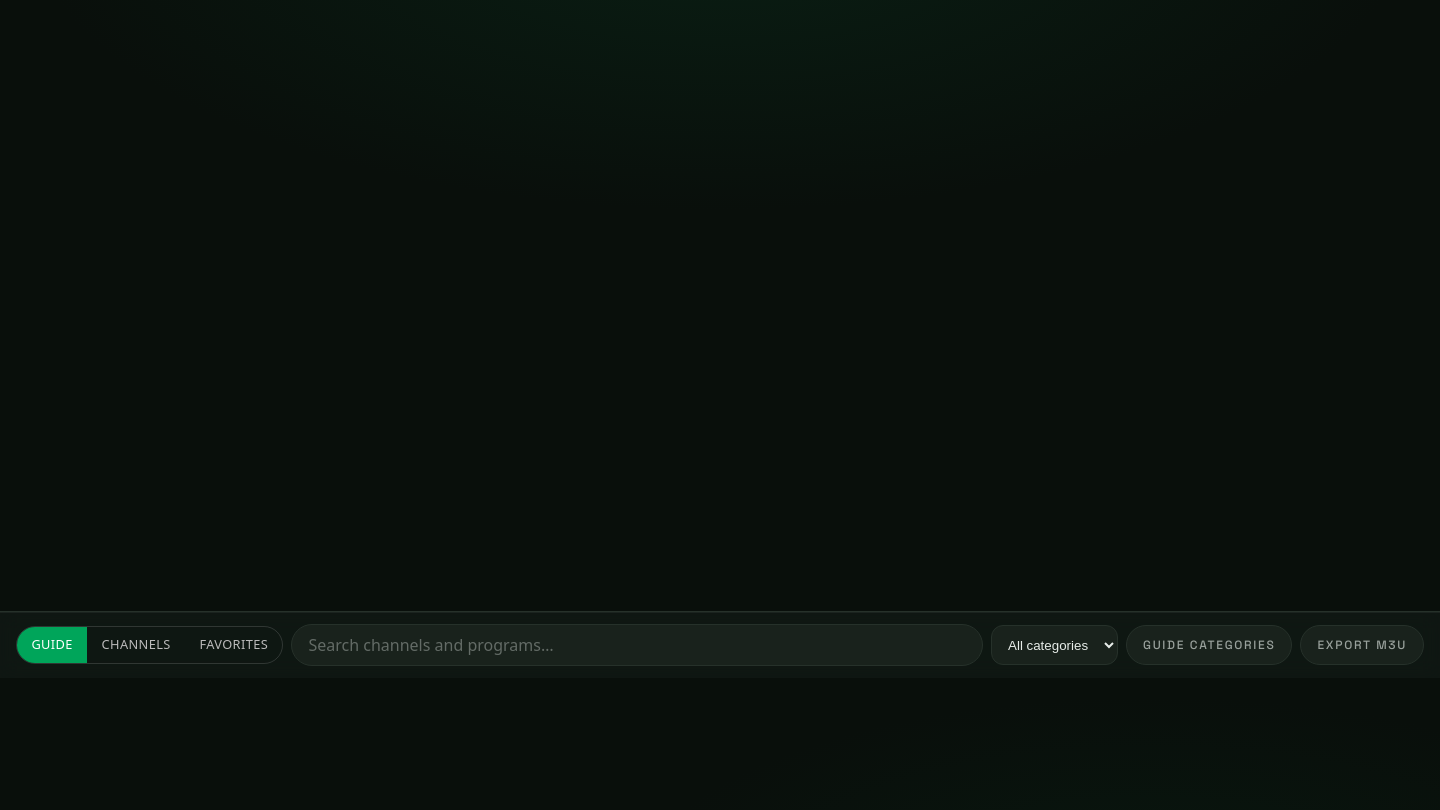
Test: LiveTab — failed channel grant surfaces a visible error (never a silent void) › renders a source_unavailable alert with the available alternatives
Click the button "Channels" at coordinates (136, 645), box [87,627,185,663]
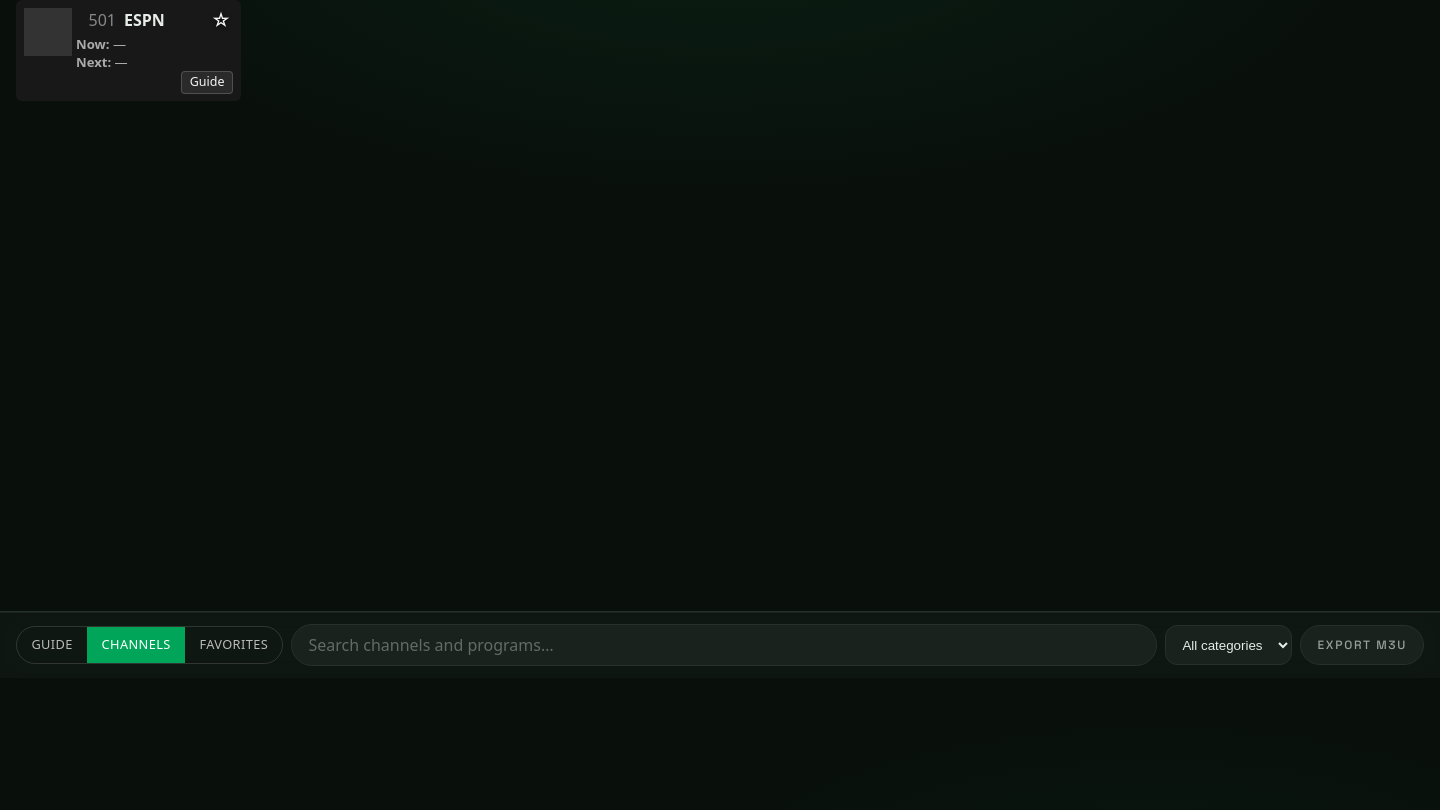
expect the button "☆ 501 ESPN Now: — Next: — Guide" is shown: met
Click the button "☆ 501 ESPN Now: — Next: — Guide" at coordinates (128, 50), box [16,0,241,101]
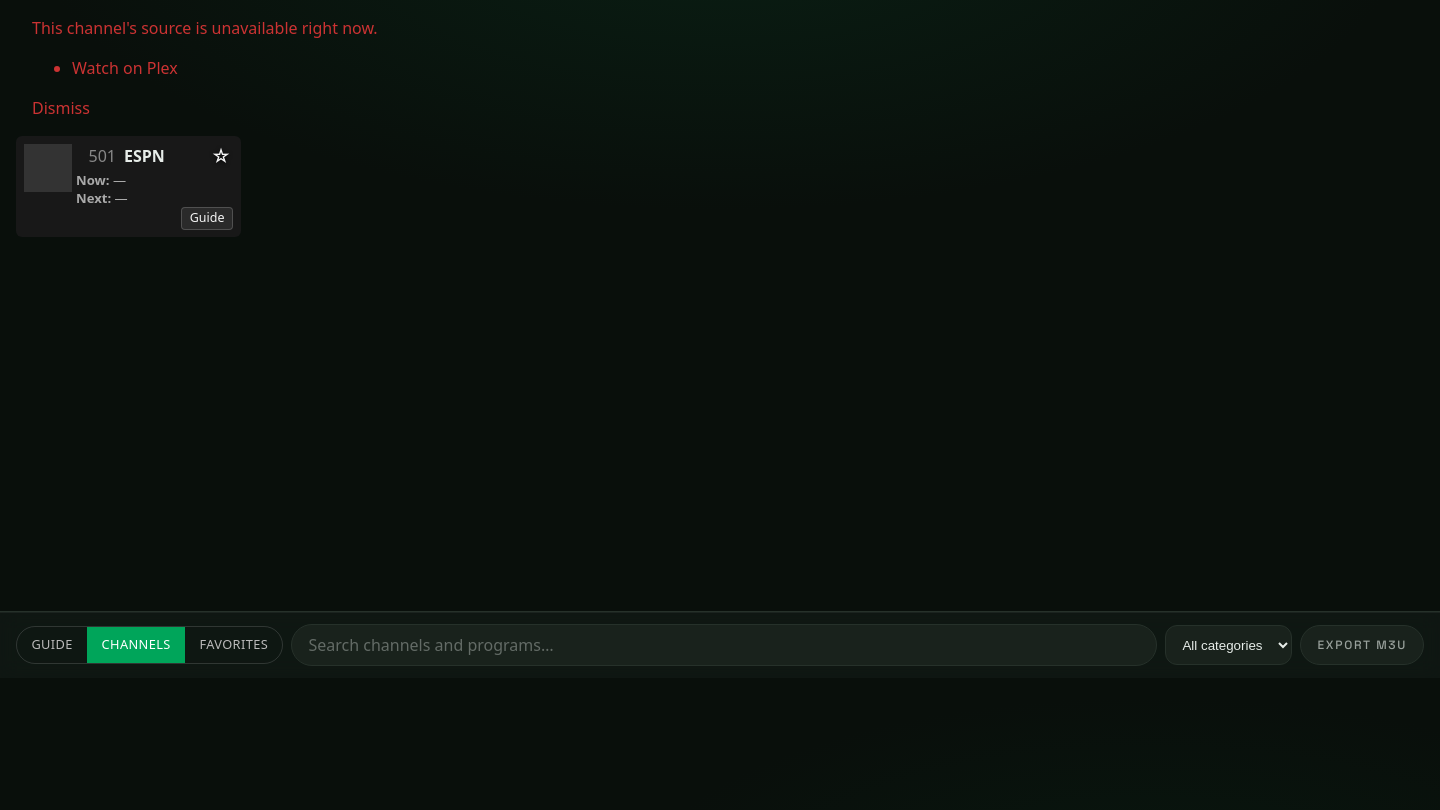
expect the message shows "source is unavailable": met, box [32,17,378,39]
expect the message shows "Watch on Plex": met, box [72,57,178,79]
